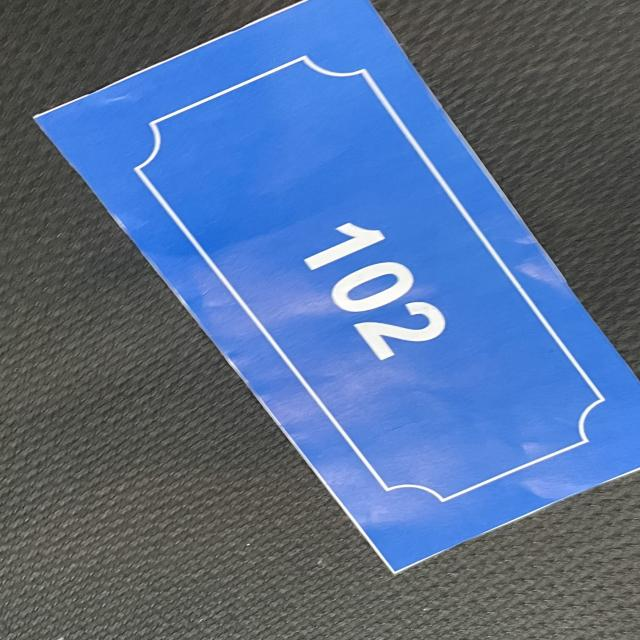Card: (2, 0, 640, 616)
